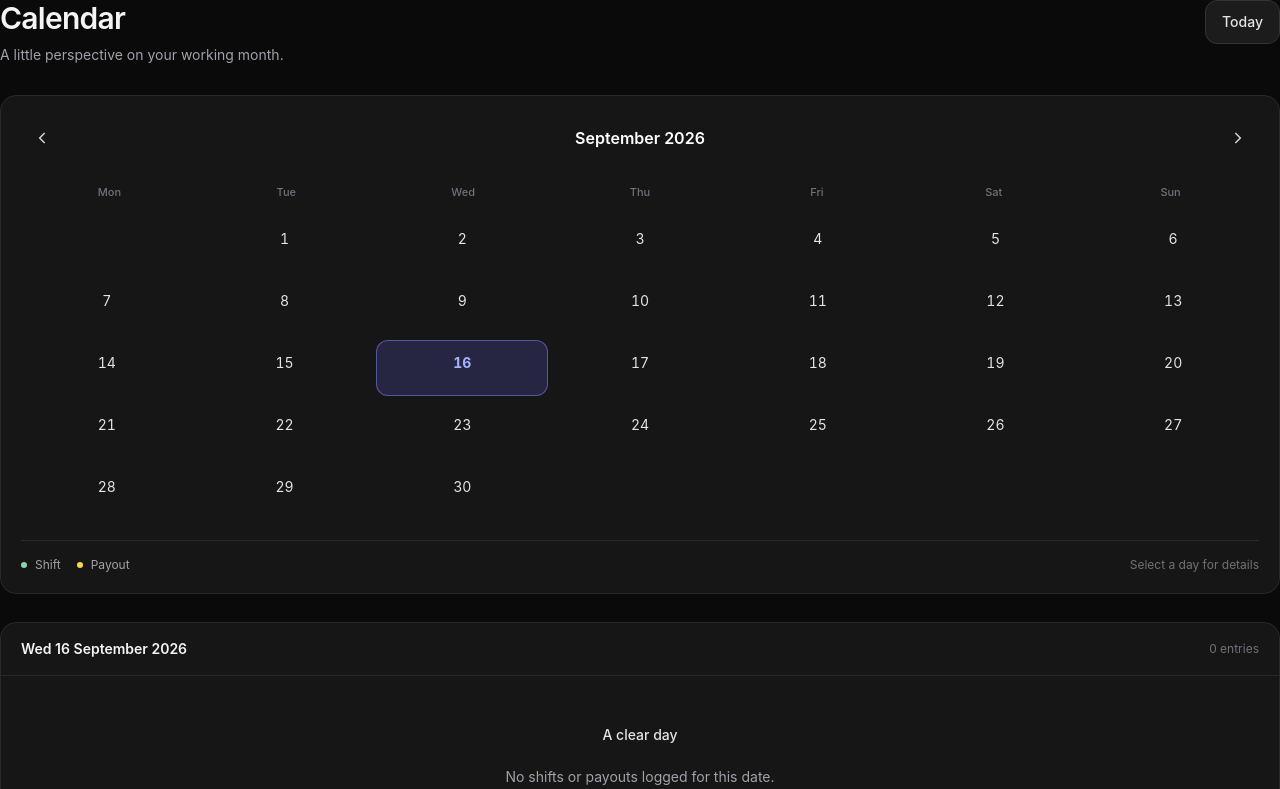
calendar navigation › shows details from the displayed month after navigating into a new year
The width and height of the screenshot is (1280, 789).
Step 1. Click the button named "Next month" → x=1237, y=138, box top-left (1215, 116), bottom-right (1259, 160)
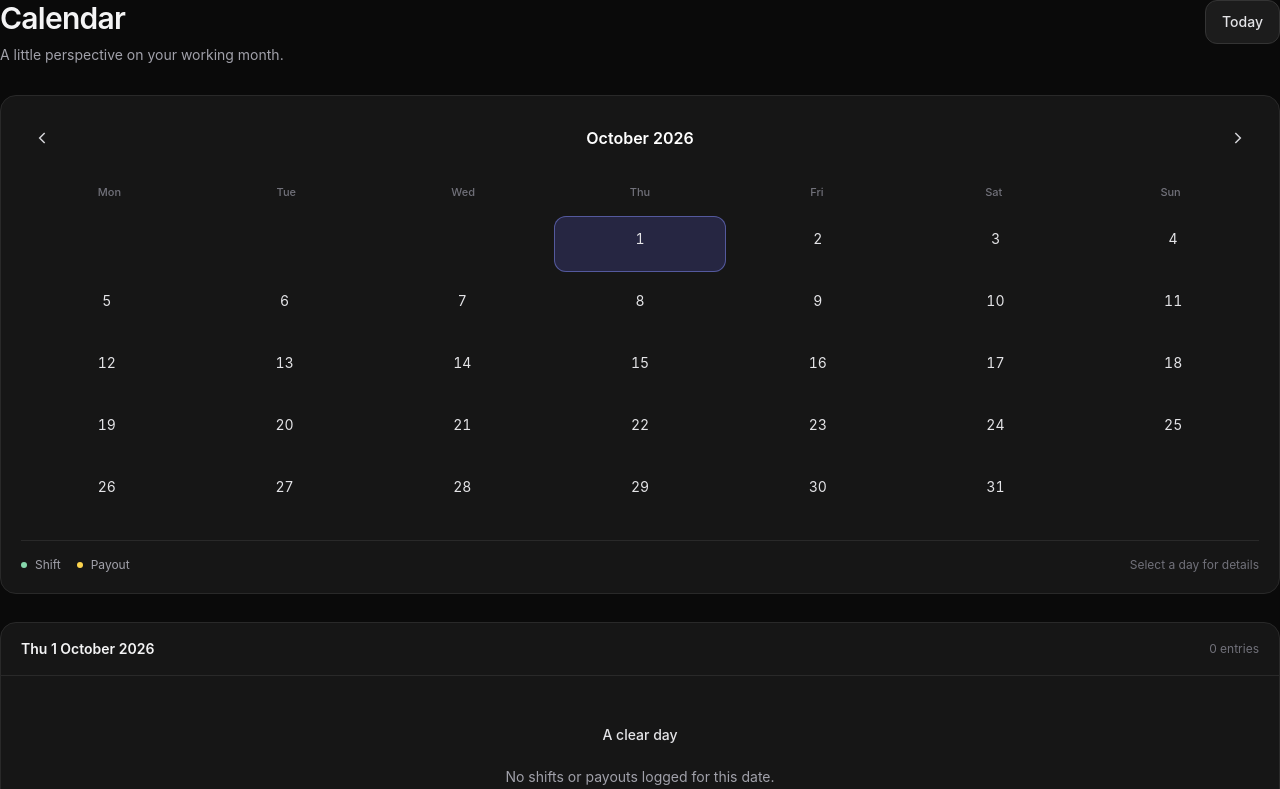
Step 2. Click the button named "Next month" → x=1237, y=138, box top-left (1215, 116), bottom-right (1259, 160)
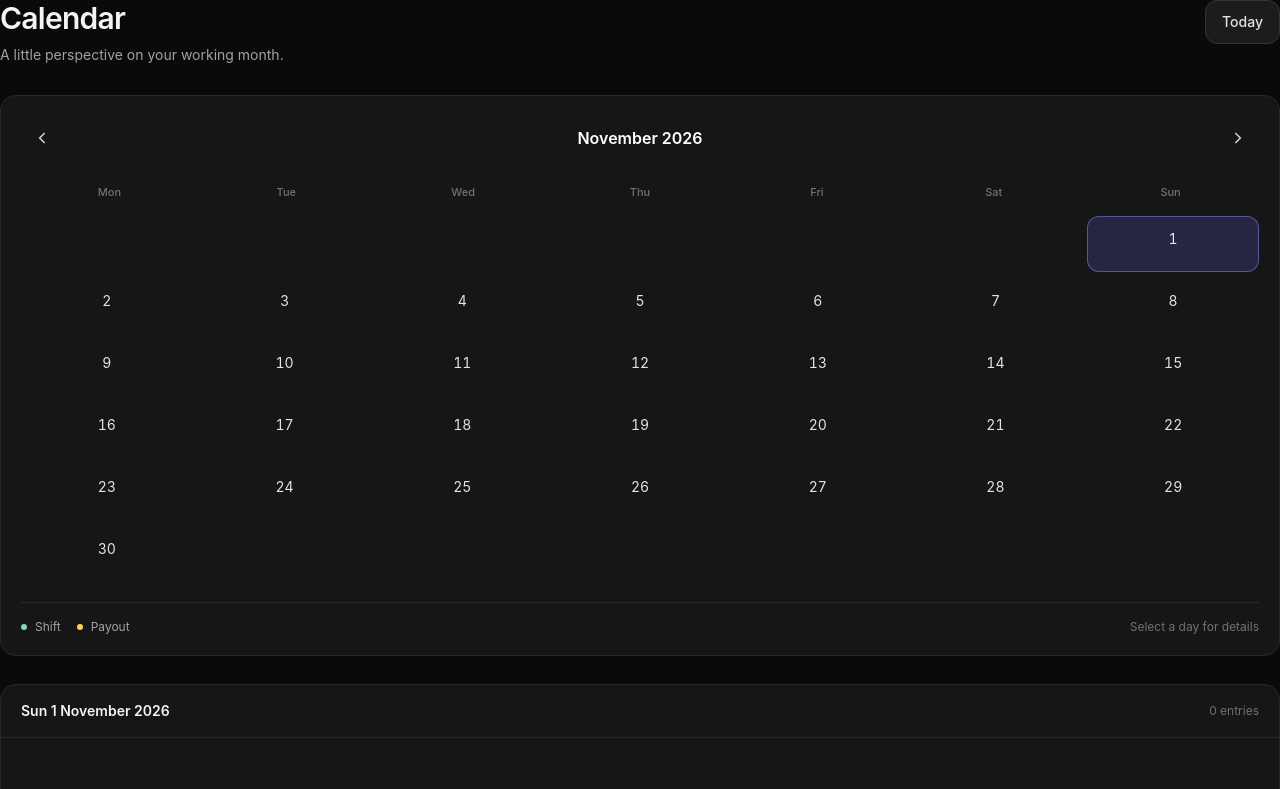
Step 3. Click the button named "Next month" → x=1237, y=138, box top-left (1215, 116), bottom-right (1259, 160)
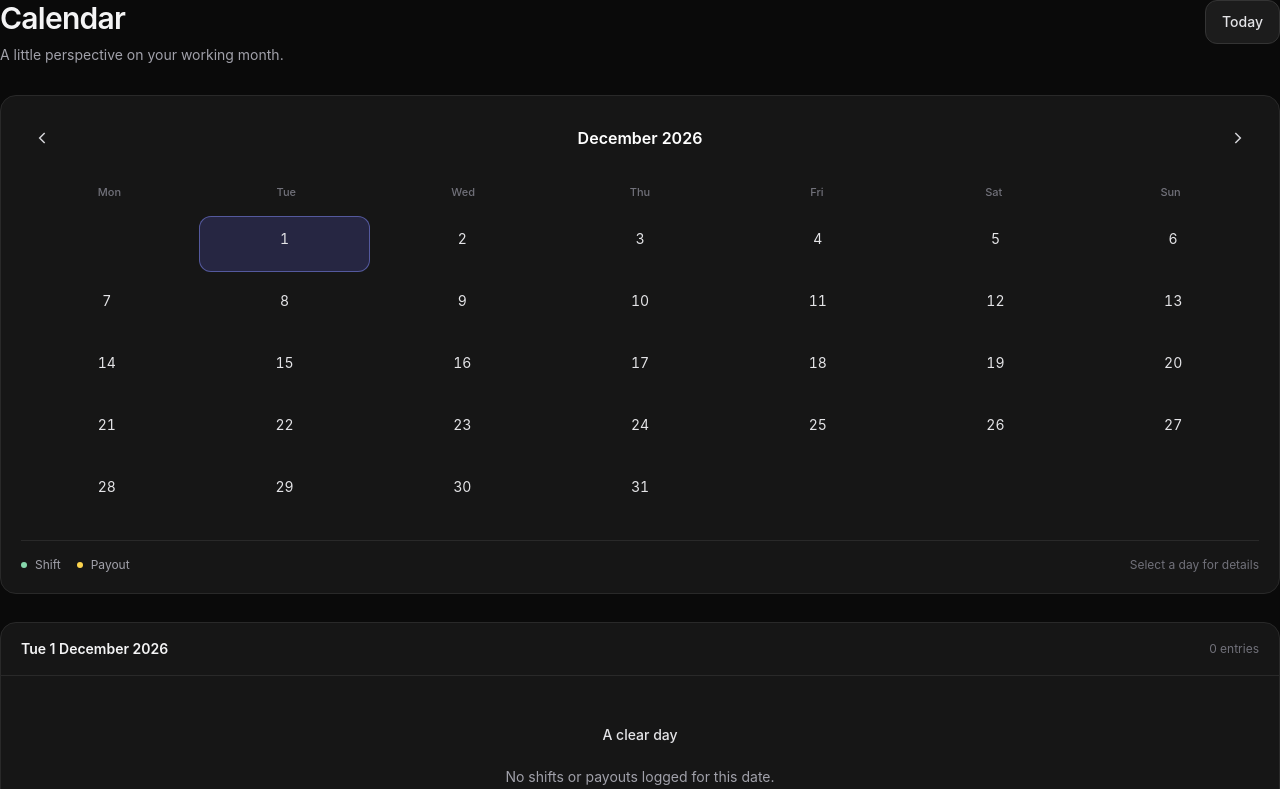
Step 4. Click the button named "Next month" → x=1237, y=138, box top-left (1215, 116), bottom-right (1259, 160)
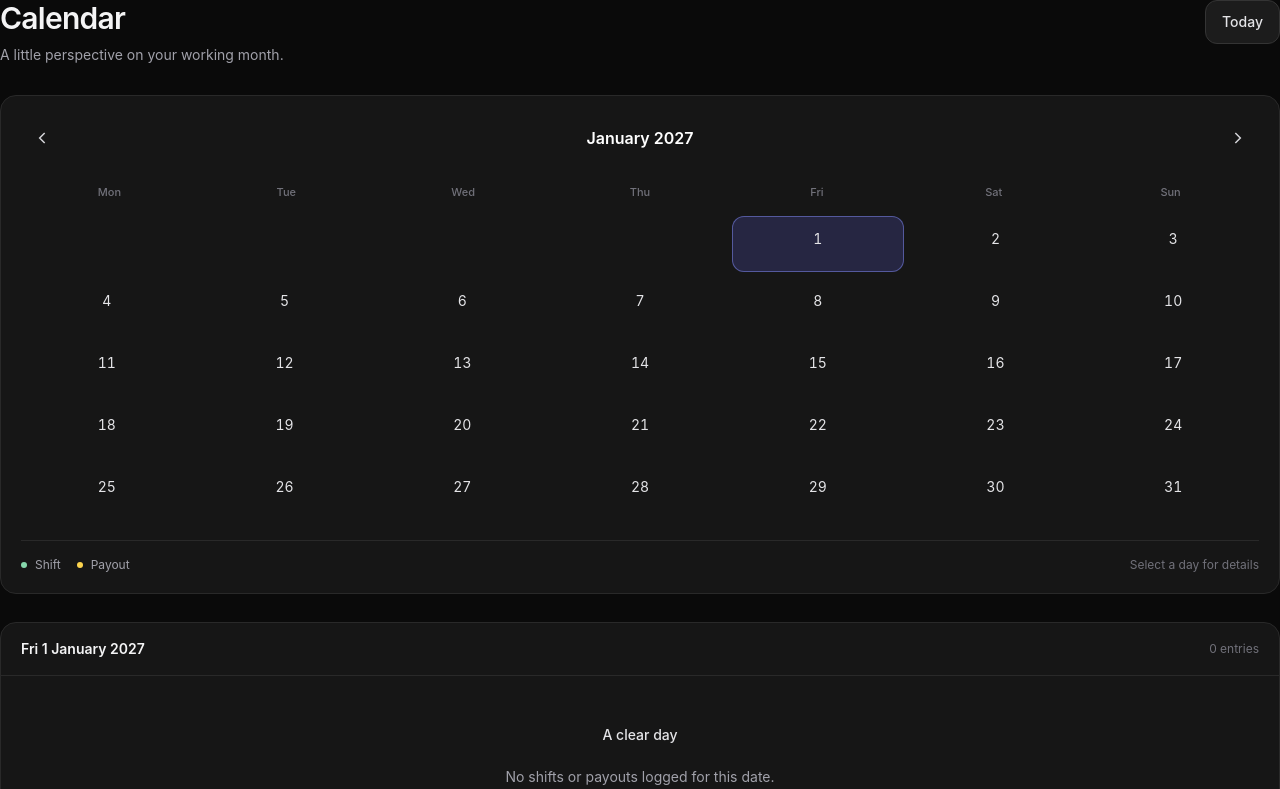
Check: the heading "Wed 16 September 2026" is not shown
Check: the heading "Fri 1 January 2027" is shown, box top-left (21, 639), bottom-right (145, 659)
